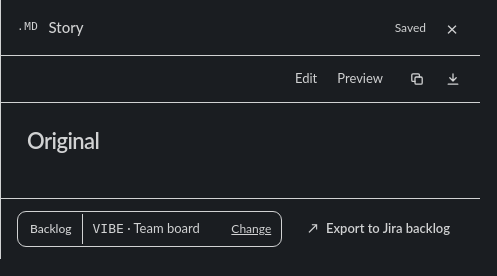
Test: Jira export in the document panel › should offer the VIBE backlog and export to it when the person has no default and the document is saved
Expected: the button with aria-label "Change the Jira project, now VIBE" is shown, [221, 221, 281, 237]
Click the button "↗ Export to Jira backlog": (379,229) [294, 212, 464, 246]
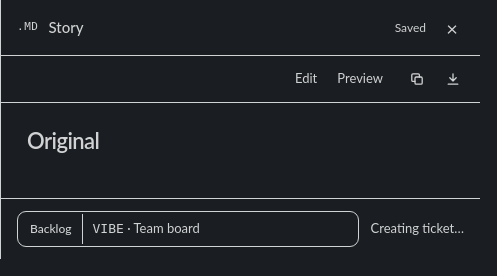
Expected: the text "Creating ticket…" is shown, [371, 220, 464, 236]
Expected: the button "Export" is gone
